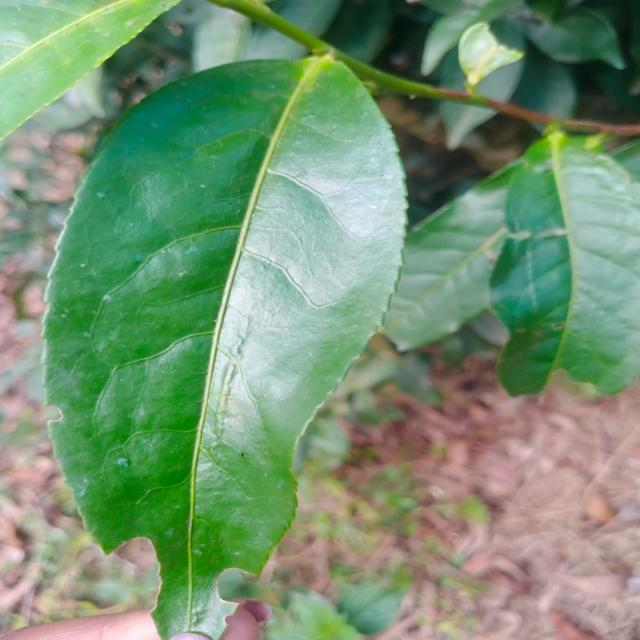Category D 7+ days, Not for Tea: (39, 22, 426, 640)
